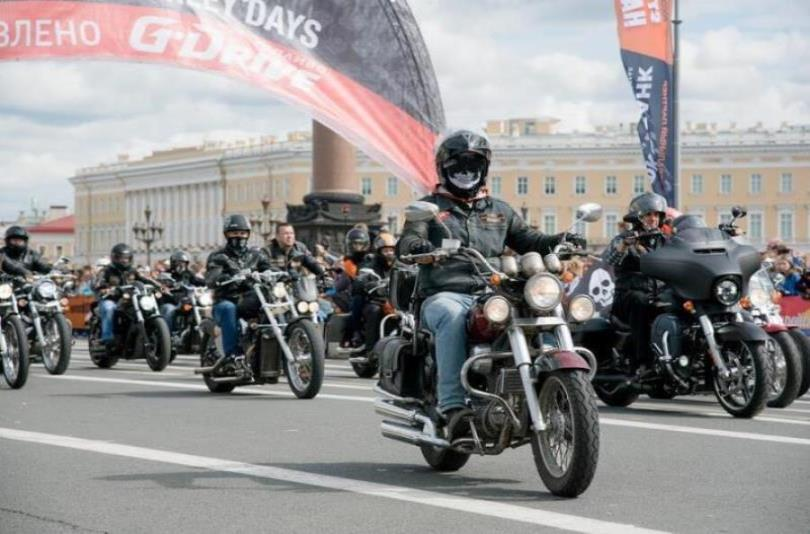helmet: (427, 123, 498, 204), (206, 210, 259, 257), (107, 240, 138, 269)
